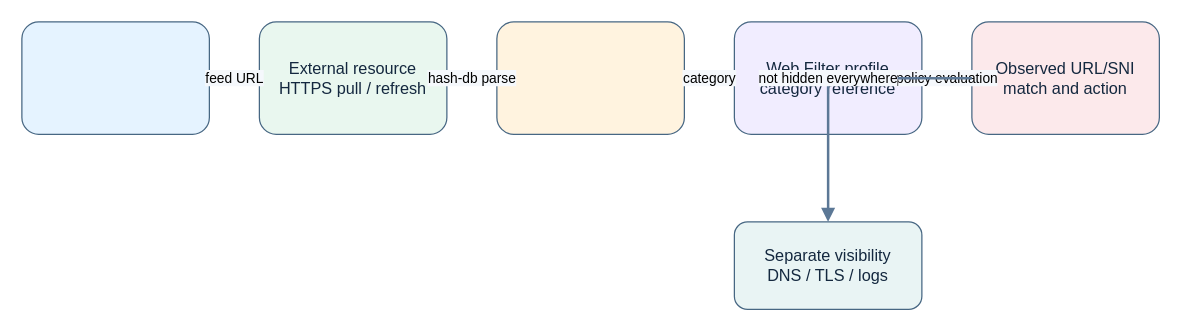
Some shapes in this 1181 by 331 pixel diagram are drawn without their labels. The shapes that lost their labels are listed below. From the top down, each one's box as (x1, y1, x2, y2) in pixels, then its label:
(21, 21, 209, 134): Publisher hashed URL/SNI feed
(496, 21, 684, 134): Hash database category 192-221
